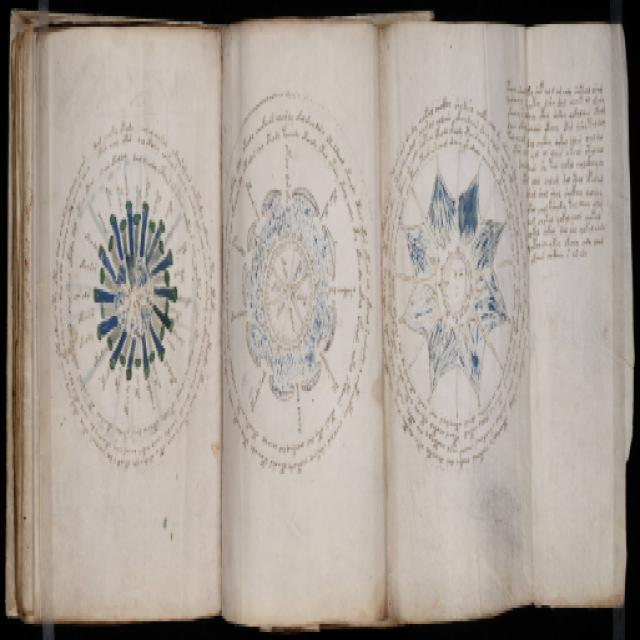ornament_circle: (48, 115, 218, 475), (218, 89, 374, 478), (379, 87, 535, 475)
